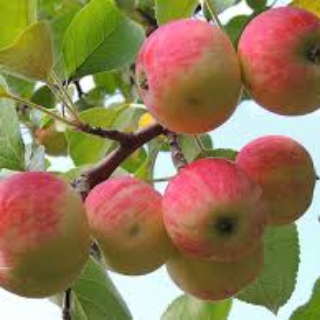tao: (131, 15, 245, 139), (160, 154, 269, 264)
